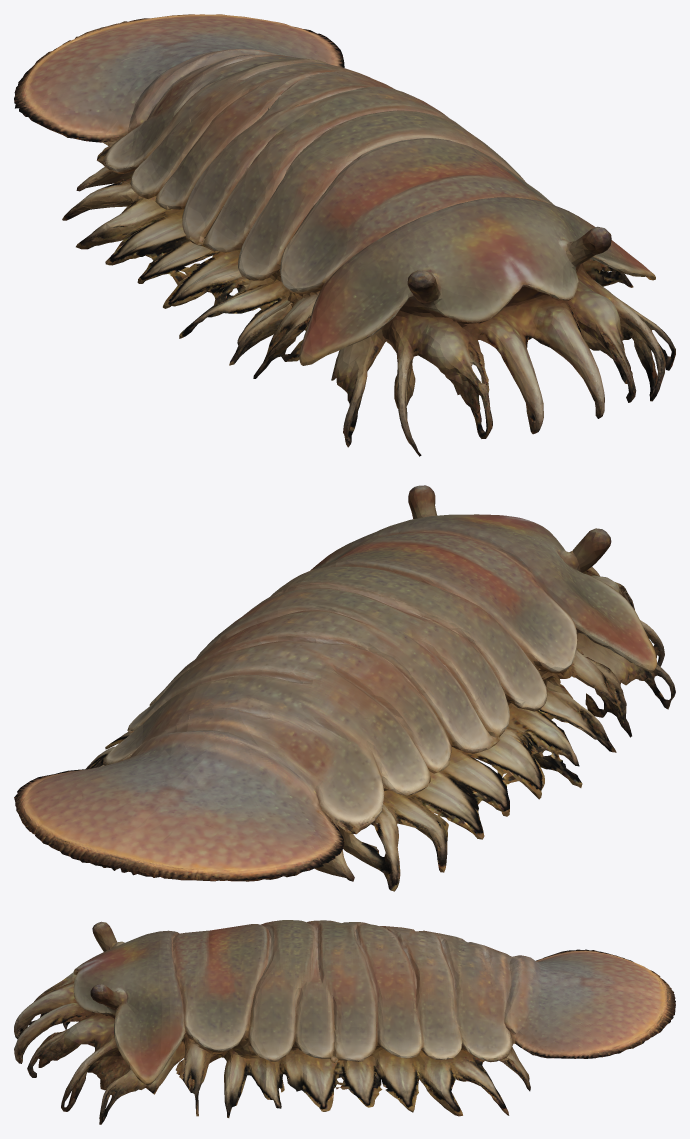
3 renders of one model, top to bottom at view 1: azimuth 30°, elevation 25°; view 2: azimuth 150°, elevation 25°; view 3: azimuth 270°, elevation 25°, orthographic. The views are drawn at different scales.
Visible parts, largest first — view 1: world; view 2: world; view 3: world.
Part boxes in pixels (x1,y1,x2,y2): world: [14, 14, 675, 456]; world: [14, 485, 675, 891]; world: [14, 920, 675, 1124].
Bounding box in the file's own units: 0.0499 × 0.0229 × 0.1.
1 material, 1 textured.
